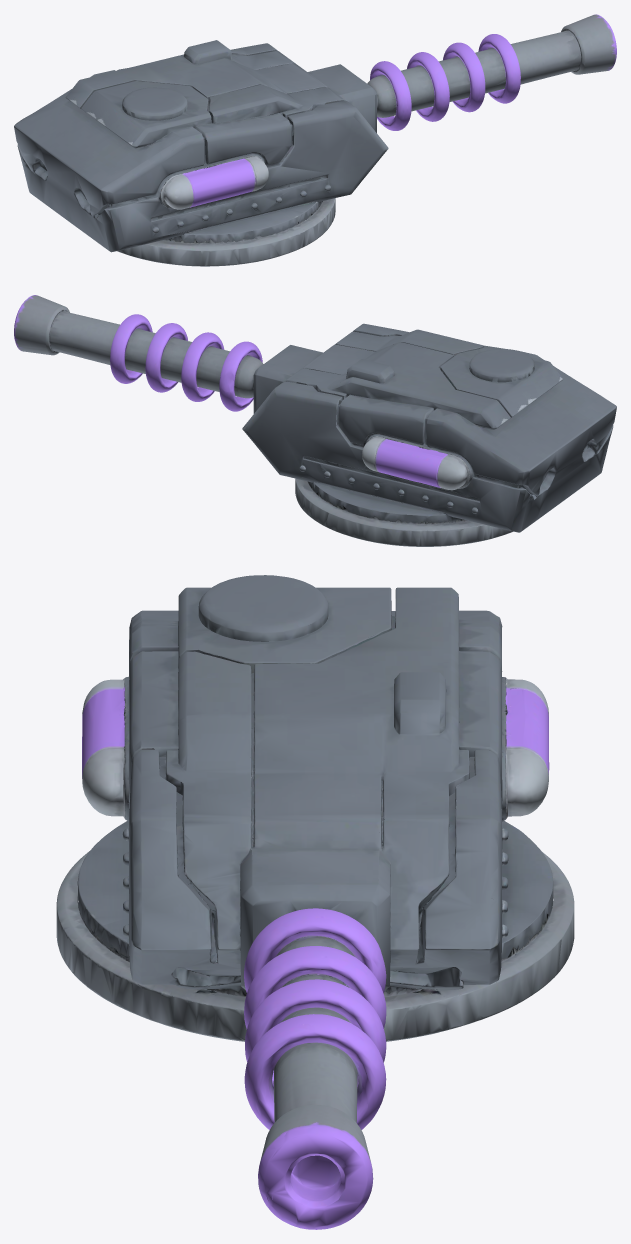
Rendered from weapon-pulse-1-full.glb.
3 renders of one model, top to bottom at view 1: azimuth 30°, elevation 25°; view 2: azimuth 150°, elevation 25°; view 3: azimuth 270°, elevation 25°, orthographic. The views are drawn at different scales.
Visible parts, largest first — view 1: weapon-pulse-1-full; view 2: weapon-pulse-1-full; view 3: weapon-pulse-1-full.
Boxes of the visible parts, <box> form: weapon-pulse-1-full: <box>14,14,616,266</box>; weapon-pulse-1-full: <box>14,295,616,546</box>; weapon-pulse-1-full: <box>56,575,574,1229</box>.
Bounding box in the file's own units: 2.66 × 0.655 × 1.09.
1 material, 1 textured.
